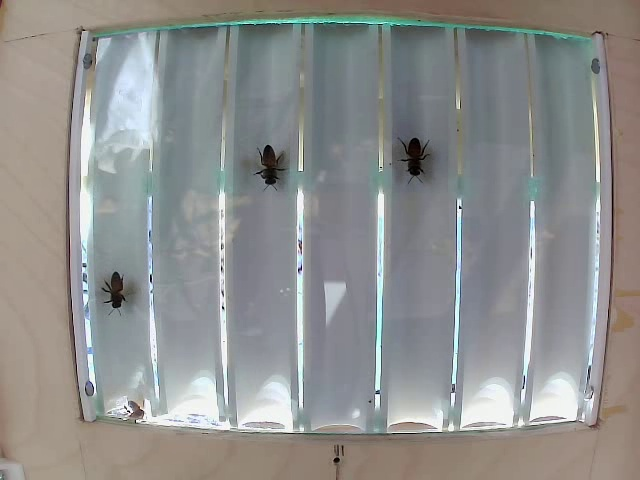bee: (401, 131, 435, 187), (99, 264, 133, 317), (251, 145, 286, 191)
